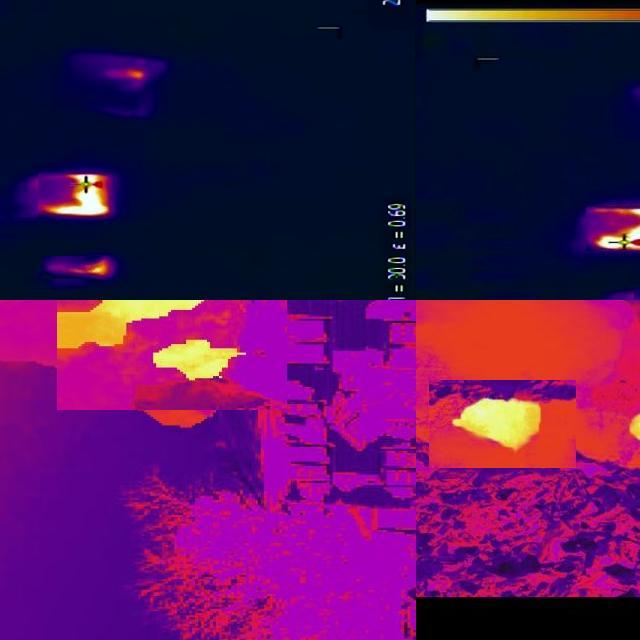fire: (57, 301, 251, 385), (452, 394, 552, 457), (38, 172, 115, 220), (606, 403, 640, 476), (586, 207, 640, 252), (42, 257, 114, 280), (619, 406, 640, 445)
